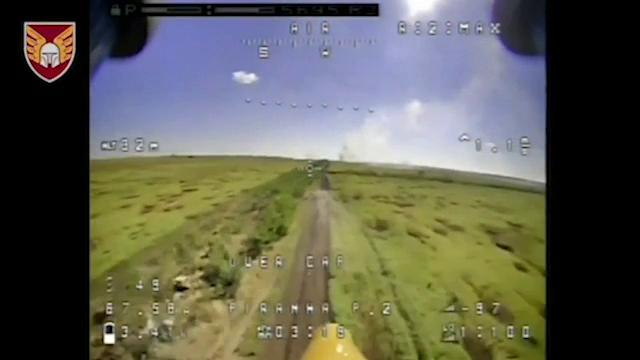tank: (313, 187, 333, 218)
